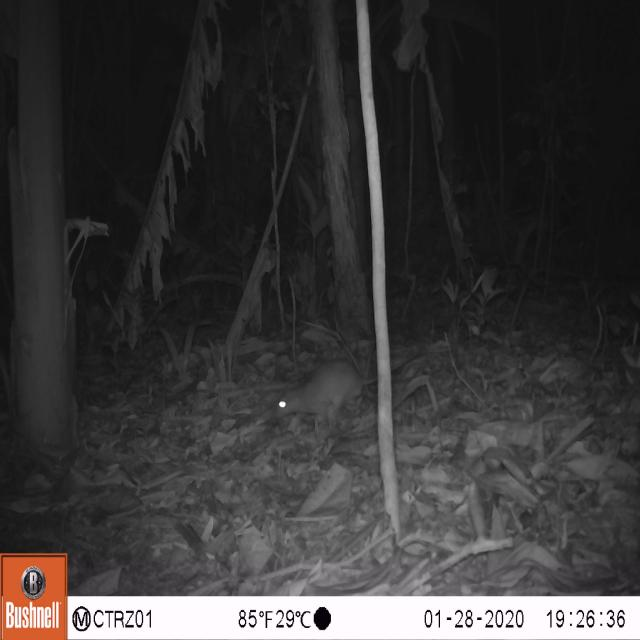Black Agouti: (258, 344, 382, 444)
